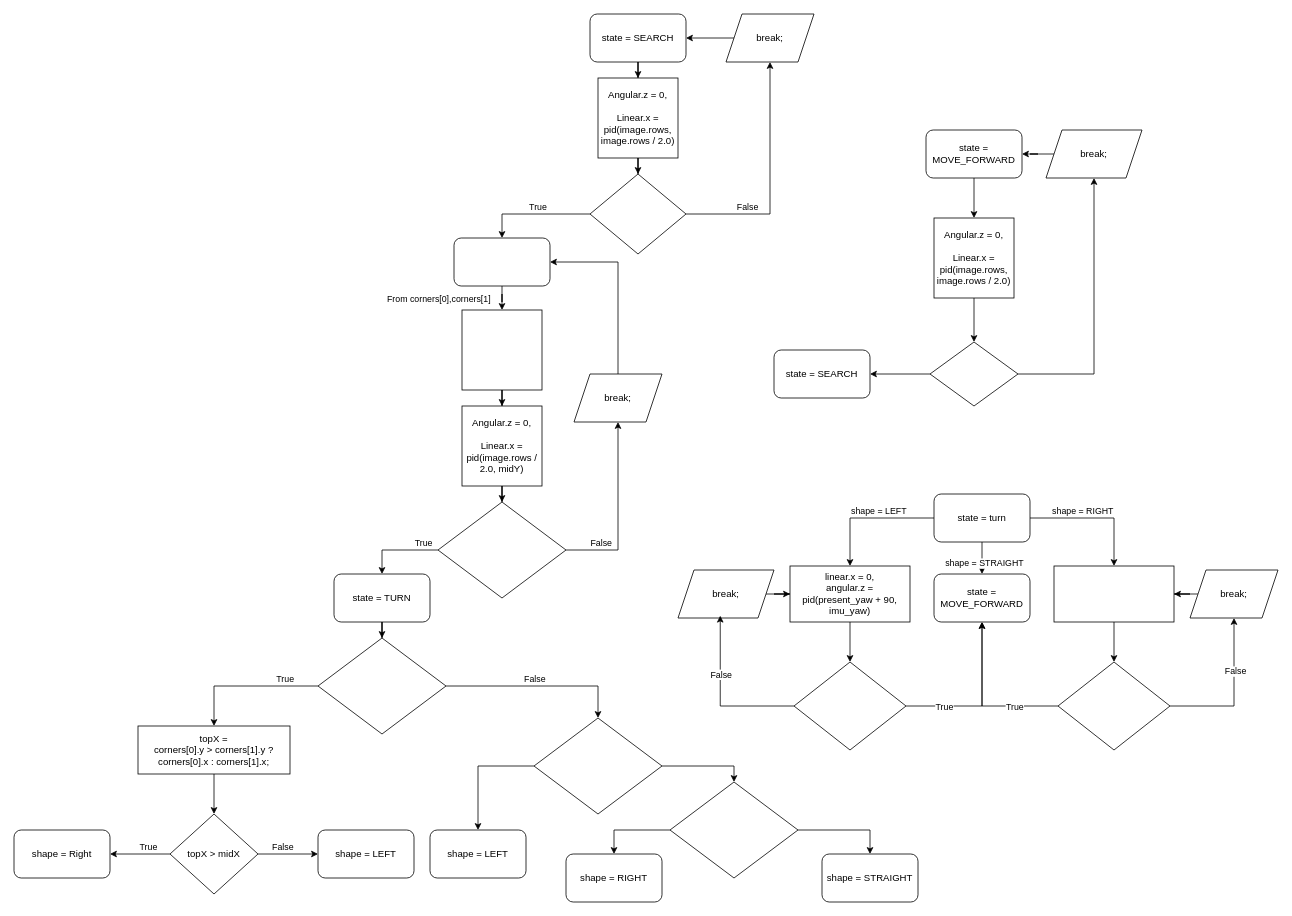
The diagram is 1292 pixels wide and 916 high, and some of its shapes have lost their labels. The centre of each missing label's shape, as x and y in pixels:
"(midX != corners[0].x) &&(midY != corners[0].y)" goes at (381,685).
"(minX,minY), (maxX,maxY), (midX,midY)" goes at (501,349).
"corners.size()<0" goes at (973,373).
"Corners.size()>1" goes at (637,213).
"direction < 0" goes at (597,765).
"direction > 0" goes at (733,829).
"image.rows / 2.0 == midY" goes at (501,549).
"linear.x = 0, angular.z = pid(present_yaw - 90, imu_yaw)" goes at (1113,593).
"present_yaw+90 == imu_yaw" goes at (849,705).
"present_yaw-90 == imu_yaw" goes at (1113,705).
"state = ALIGN_CENTER" goes at (501,261).
